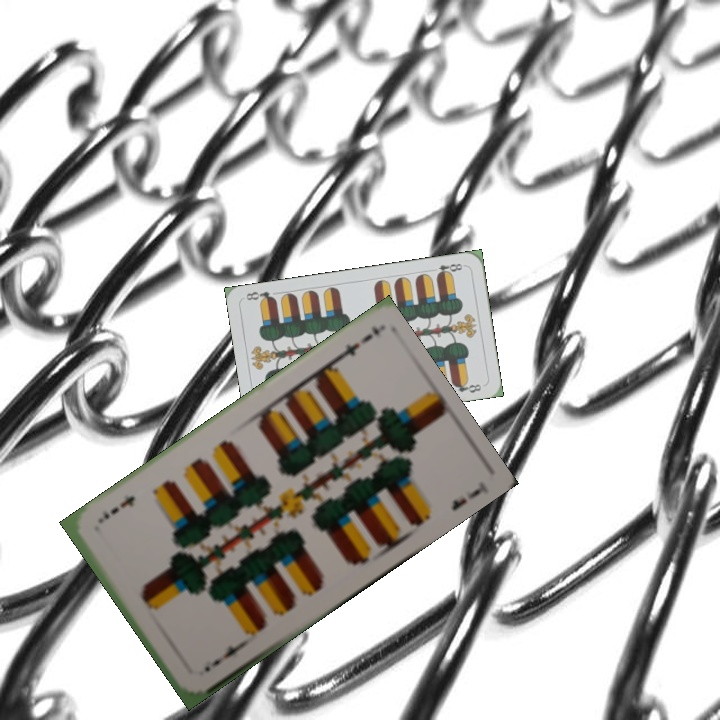E7: (330, 329, 375, 366), (200, 639, 246, 675)
E8: (427, 259, 468, 279)
